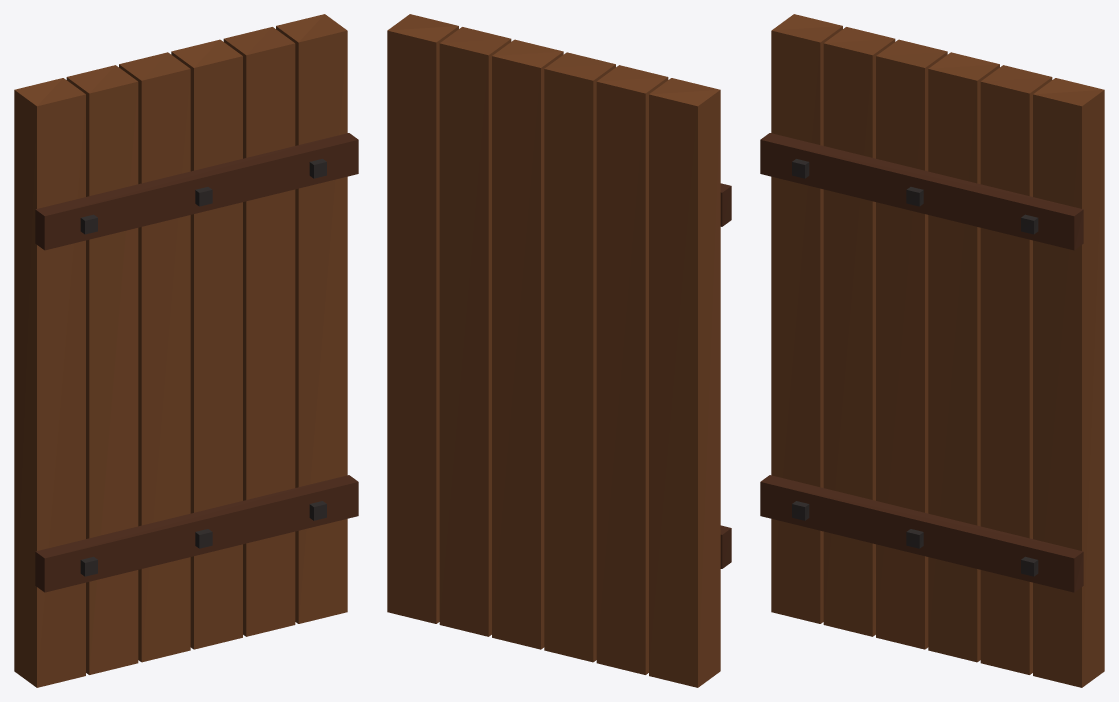
3 renders of one model, left to right at view 1: azimuth 30°, elevation 25°; view 2: azimuth 150°, elevation 25°; view 3: azimuth 330°, elevation 25°, orthographic.
Parts seen in each view (by area): view 1: scene.panel.brasscap.side-door; view 2: scene.panel.brasscap.side-door; view 3: scene.panel.brasscap.side-door.
Boxes of the visible parts, left/top/right/bottom form: scene.panel.brasscap.side-door: left=14, top=14, right=358, bottom=687; scene.panel.brasscap.side-door: left=387, top=14, right=731, bottom=687; scene.panel.brasscap.side-door: left=760, top=14, right=1104, bottom=687.
Bounding box in the file's own units: 1.92 × 3.4 × 0.385.
